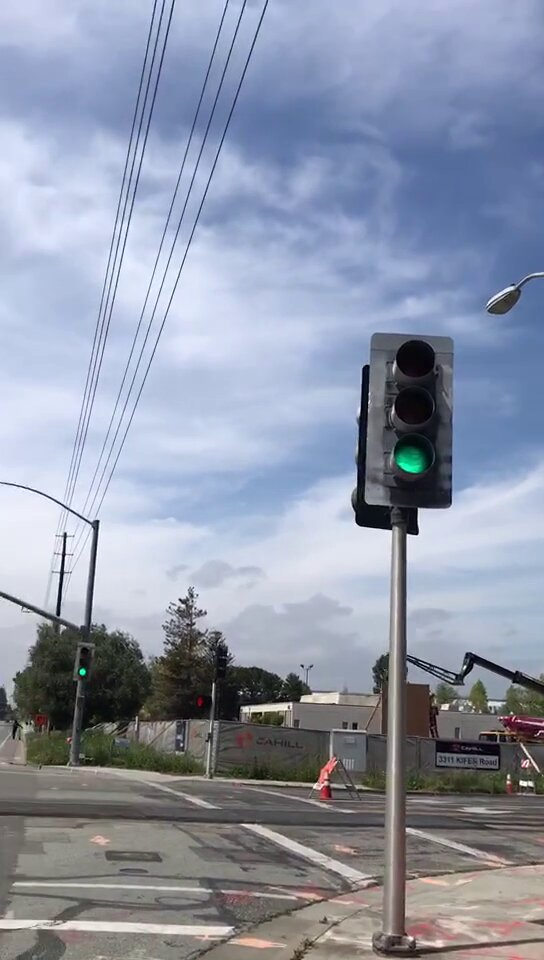green_light: (373, 335, 450, 507)
